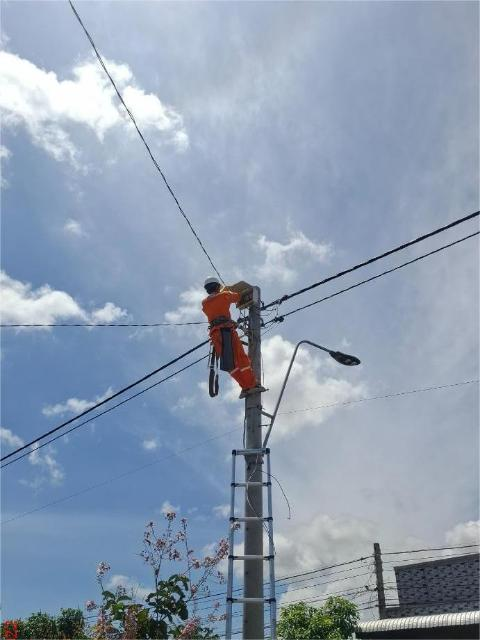harness: (196, 314, 246, 334)
helmet: (197, 272, 226, 290)
shoes: (232, 388, 252, 400), (253, 383, 269, 394)
